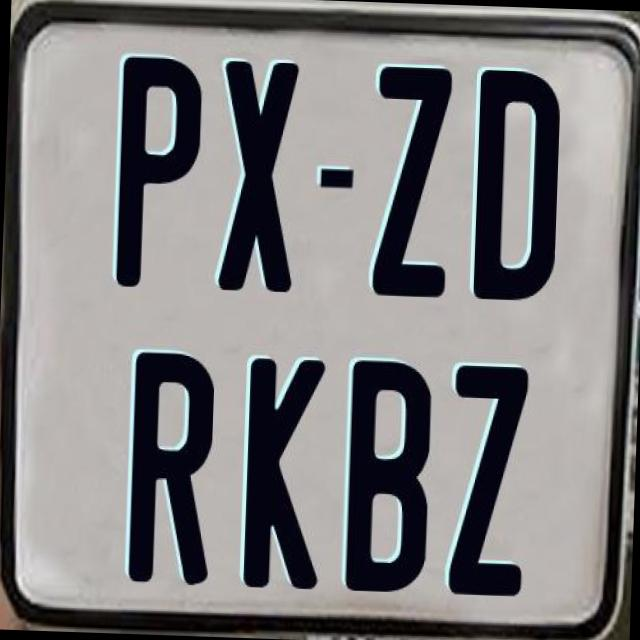B: (342, 354, 436, 598)
D: (469, 66, 565, 308)
K: (242, 354, 326, 590)
P: (113, 55, 205, 298)
R: (124, 352, 217, 585)
X: (218, 56, 304, 290)
Z: (370, 66, 454, 306), (446, 362, 532, 594)
